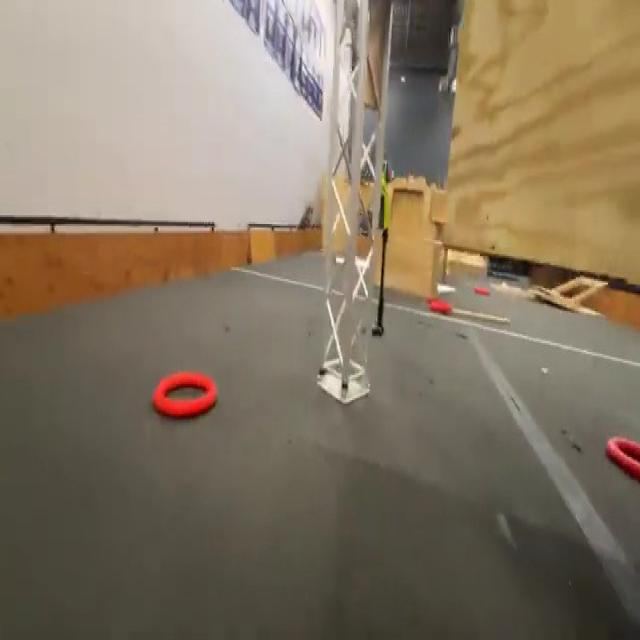note: (149, 370, 216, 418), (603, 430, 640, 481), (424, 297, 454, 316), (473, 282, 493, 300)
